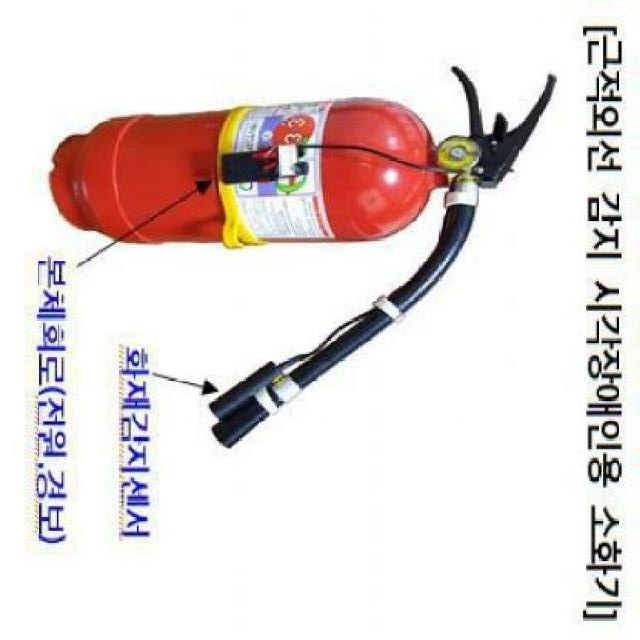fire extinguisher: (47, 66, 558, 449)
